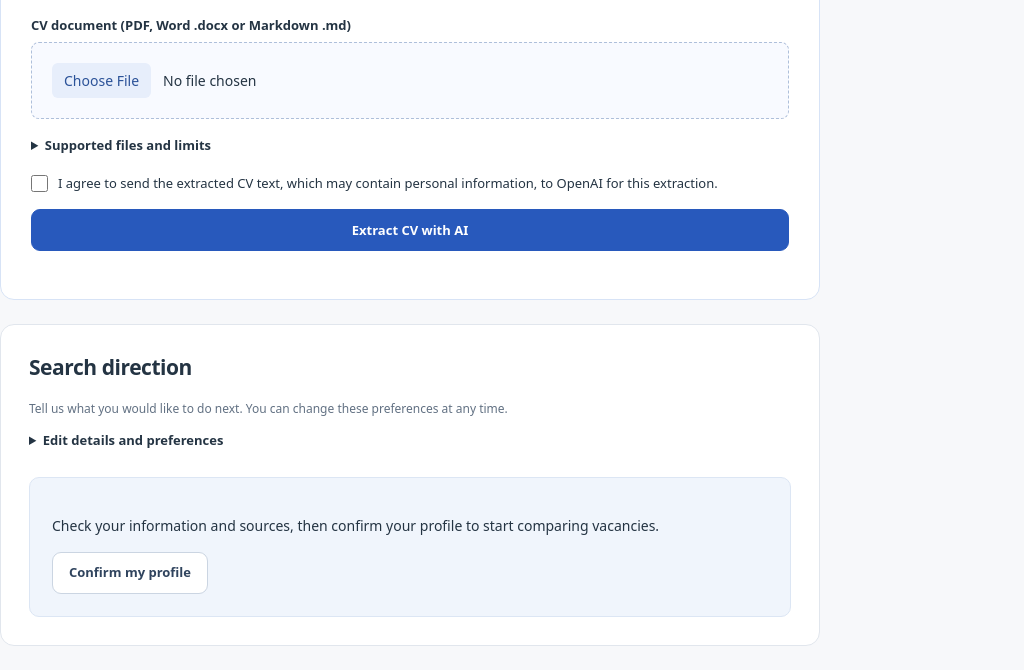
Scenario: interactive workflow › uses optimistic version when saving a profile
(page scrolled)
Click the heading "Edit details and preferences": point(133, 440) x1=43 y1=431 x2=223 y2=449
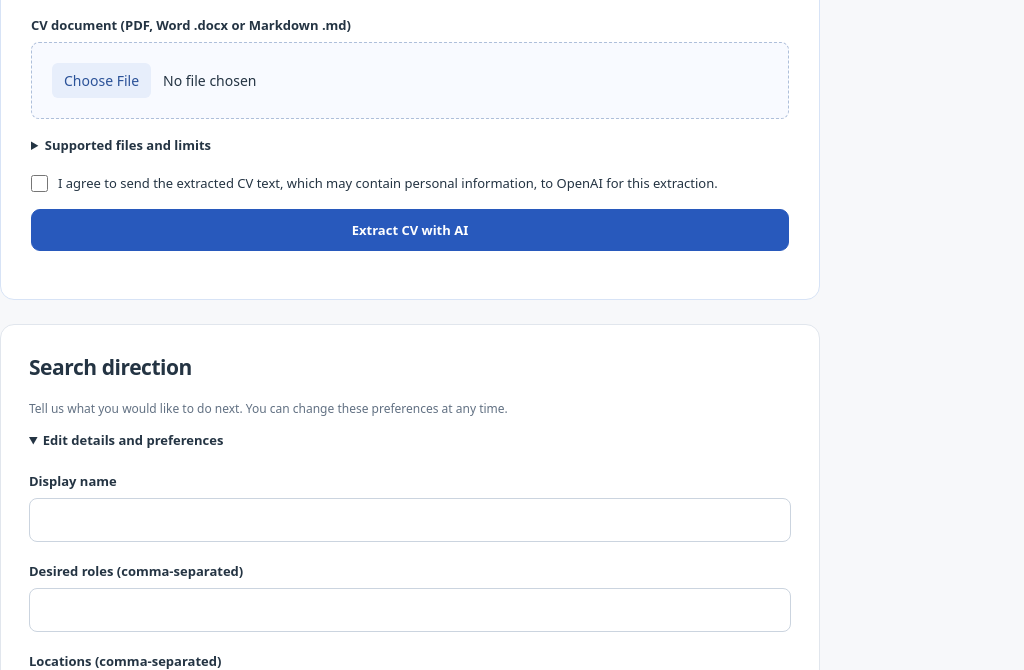
In the field labelled "Display name": point(410, 520) x1=29 y1=498 x2=791 y2=542, type "Fictício"
(page scrolled)
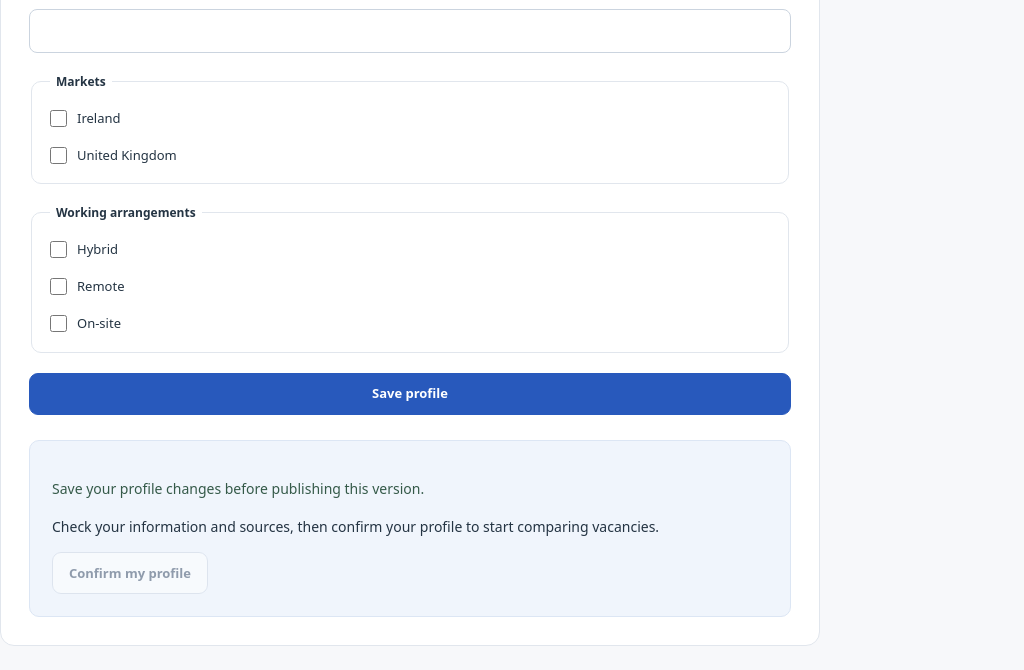
Check: the button "Confirm my profile" is disabled, box x1=52 y1=552 x2=208 y2=594
Check: the text "Save your profile changes before publishing this version." is shown, box x1=52 y1=479 x2=424 y2=498
Click the button "Save profile": point(410, 394) x1=29 y1=373 x2=791 y2=415
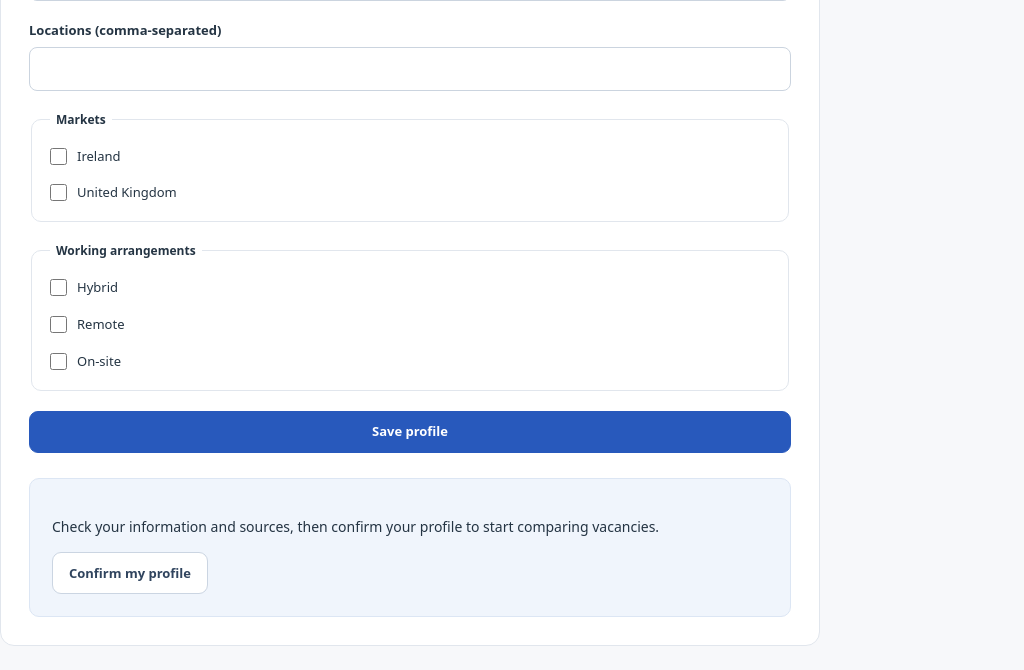
Check: the button "Confirm my profile" is enabled, box x1=52 y1=552 x2=208 y2=594
